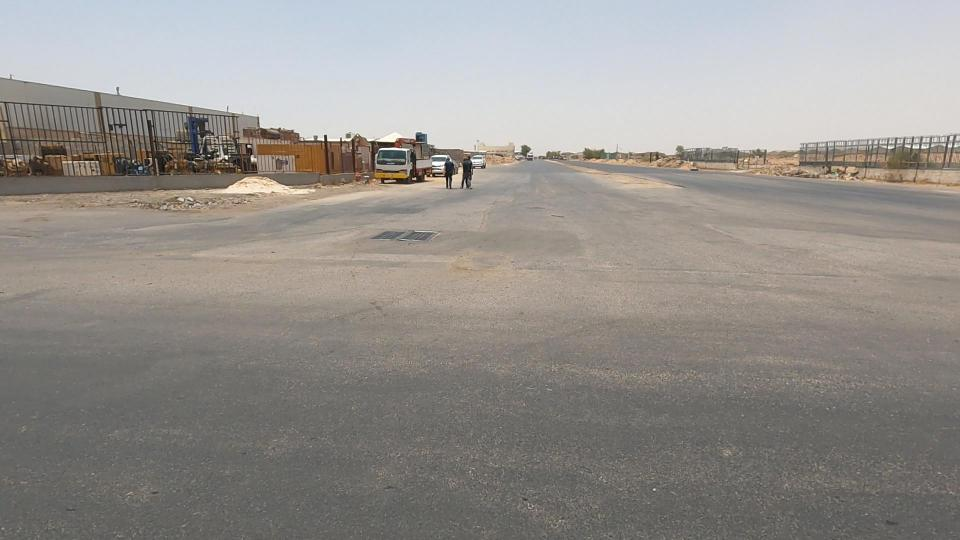GARBAGE: (121, 169, 241, 240)
SAND_ON_ROAD: (171, 141, 353, 230)
